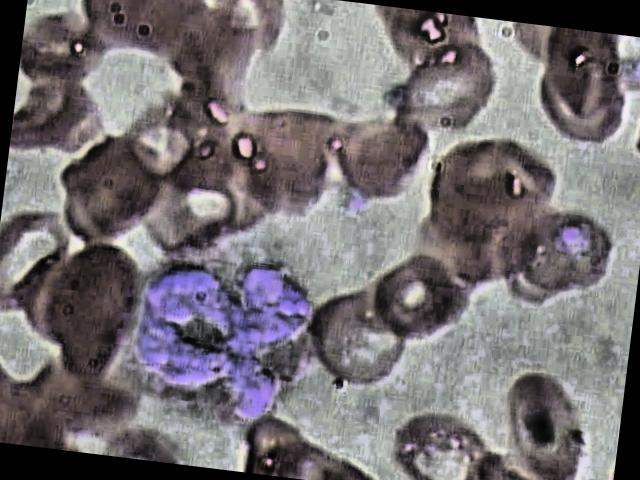Platelets: (338, 184, 377, 218)
RBC: (417, 124, 567, 260), (36, 237, 148, 392), (215, 100, 348, 229), (44, 130, 168, 258), (378, 36, 508, 151), (299, 284, 418, 398), (485, 367, 600, 480), (319, 103, 440, 209), (499, 200, 619, 306), (367, 253, 469, 352), (0, 201, 80, 324), (70, 0, 213, 68), (530, 28, 622, 130), (17, 8, 112, 106), (387, 402, 500, 480)
WBC: (104, 230, 342, 441)
